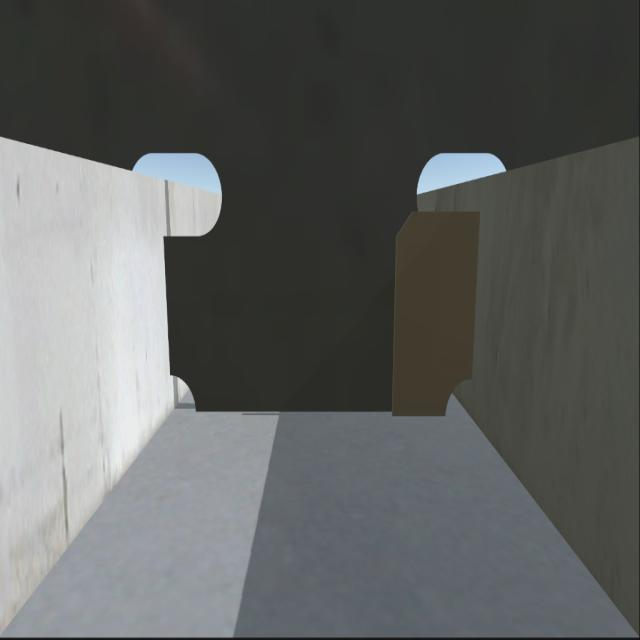fillet_hole: (169, 378, 201, 417), (446, 386, 476, 422)
fillet_yong_jeop_jang: (197, 412, 435, 419)
longi_yong_jeop_jang: (154, 241, 167, 380), (468, 217, 478, 390)
plate_CP03: (392, 220, 478, 418)
